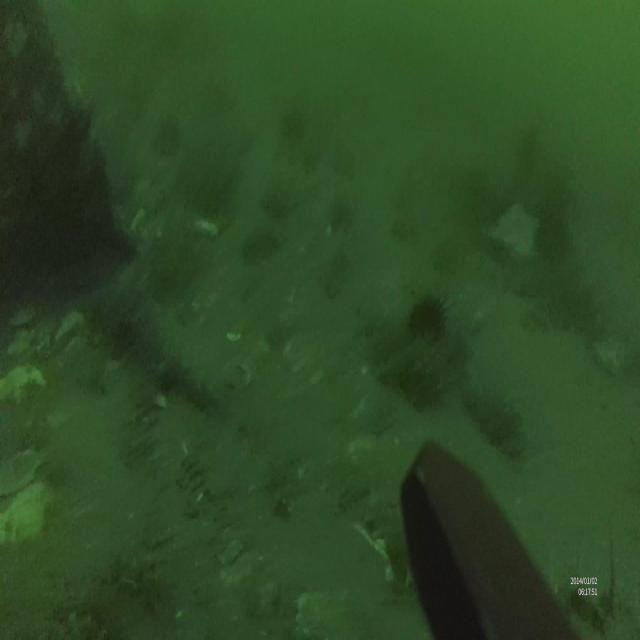echinus: (406, 288, 449, 344)
scallop: (0, 481, 54, 541), (0, 451, 47, 495)
